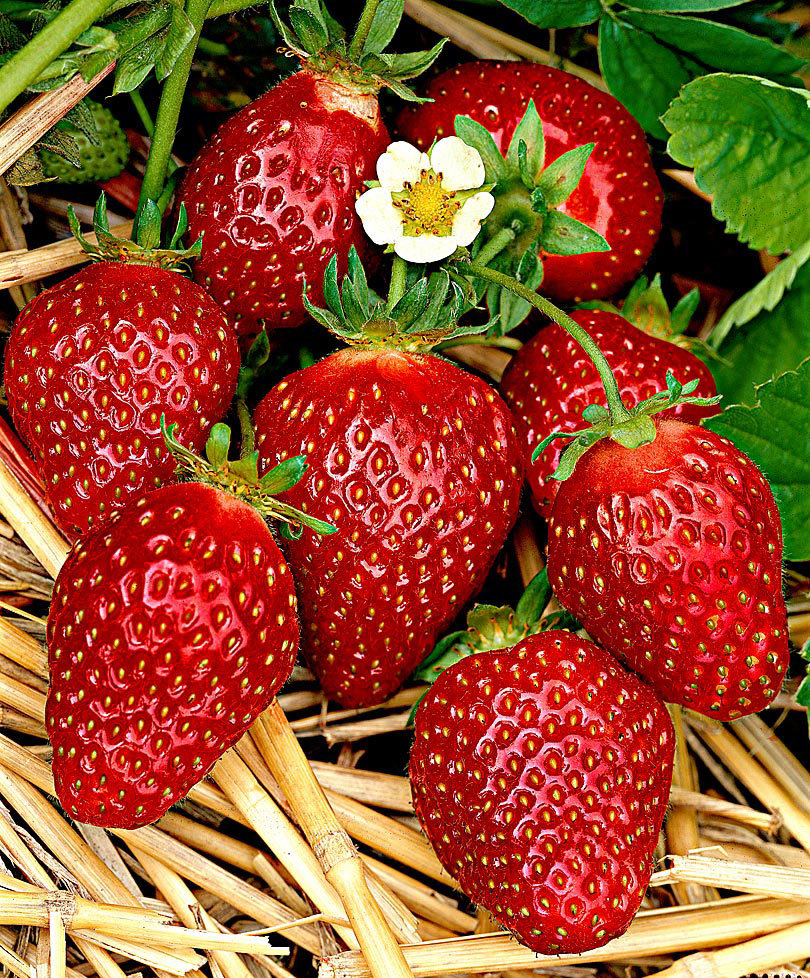ripe_strawberry: (242, 312, 526, 718), (44, 463, 303, 835), (407, 624, 683, 961), (542, 413, 793, 721), (3, 231, 249, 544), (393, 53, 671, 310), (178, 54, 401, 342), (498, 304, 725, 531)
